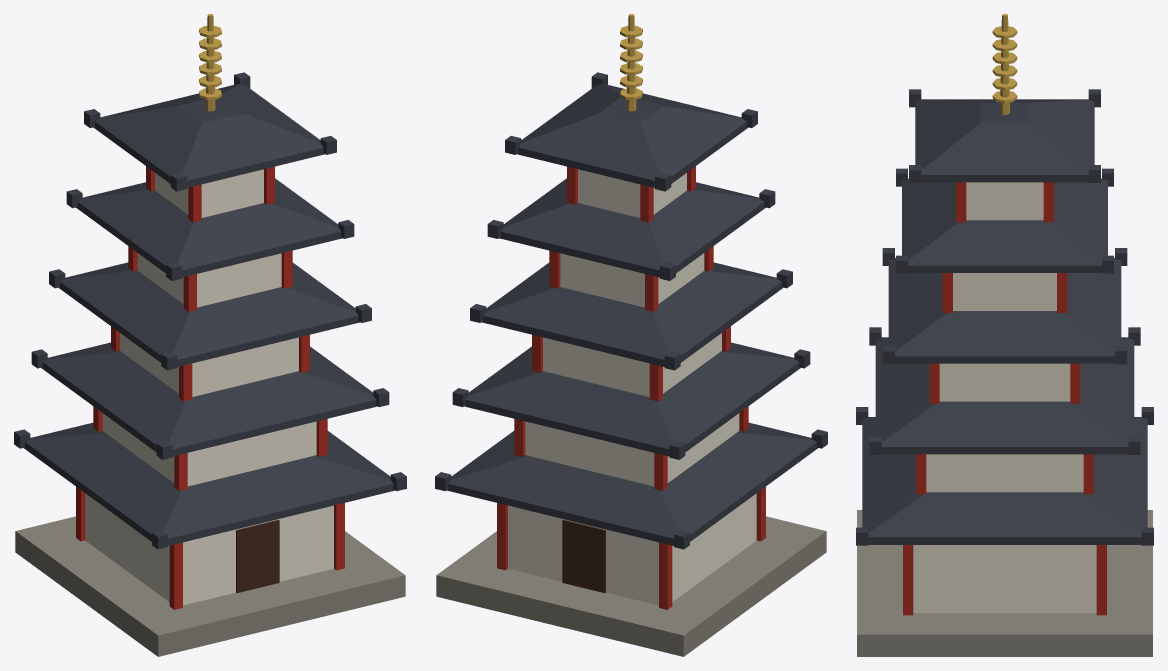
The model's file is jap-pagode.gltf.
3 renders of one model, left to right at view 1: azimuth 30°, elevation 25°; view 2: azimuth 150°, elevation 25°; view 3: azimuth 270°, elevation 25°, orthographic. The views are drawn at different scales.
Visible parts, largest first — view 1: jap-pagode; view 2: jap-pagode; view 3: jap-pagode.
Part boxes in pixels (x1,y1,x2,y2): jap-pagode: (14, 14, 406, 656); jap-pagode: (435, 14, 827, 656); jap-pagode: (856, 14, 1153, 656).
Size of the model in its own units: 2.92 by 6.27 by 2.92.
